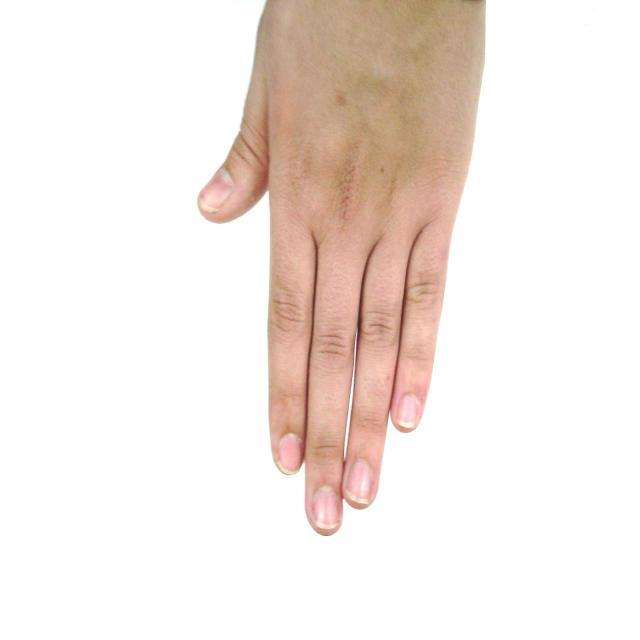Fingernail: (201, 170, 233, 209), (346, 460, 373, 504), (313, 487, 341, 529), (278, 435, 302, 473), (396, 395, 419, 427)
